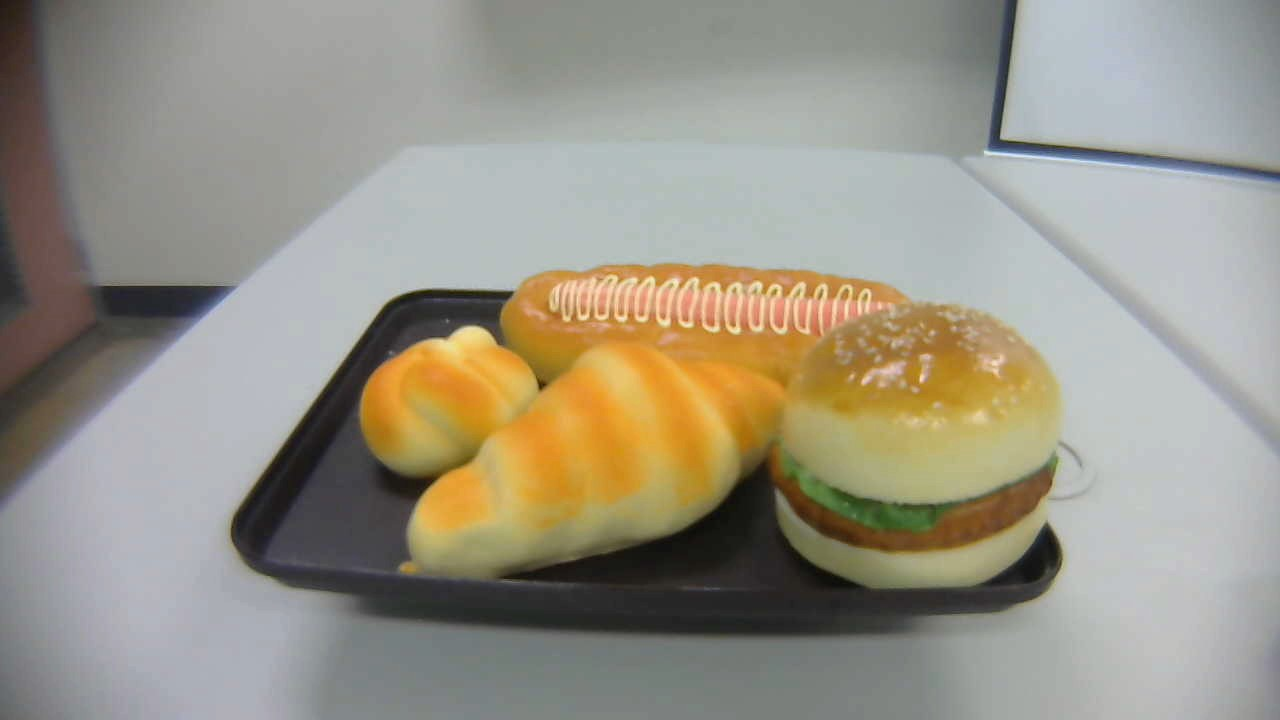croissant: (399, 341, 789, 579)
hamburger: (773, 297, 1062, 592)
hot dog: (500, 261, 921, 416)
twist bread: (358, 326, 543, 479)
